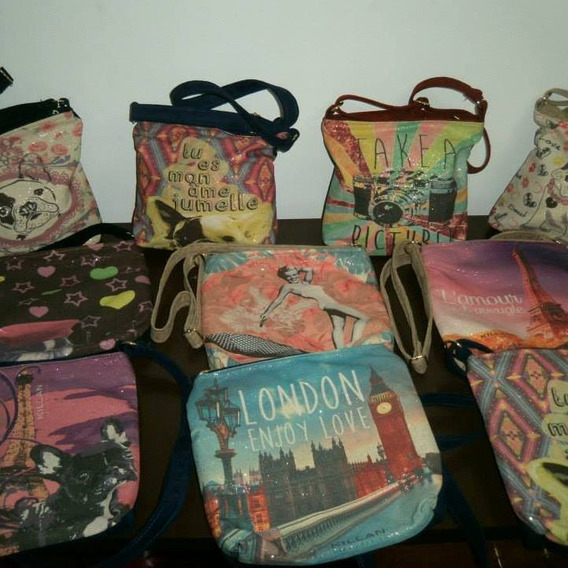cartera: (175, 344, 445, 566), (149, 235, 402, 373), (316, 76, 494, 252), (124, 75, 301, 250), (386, 236, 568, 372), (4, 88, 102, 259)
